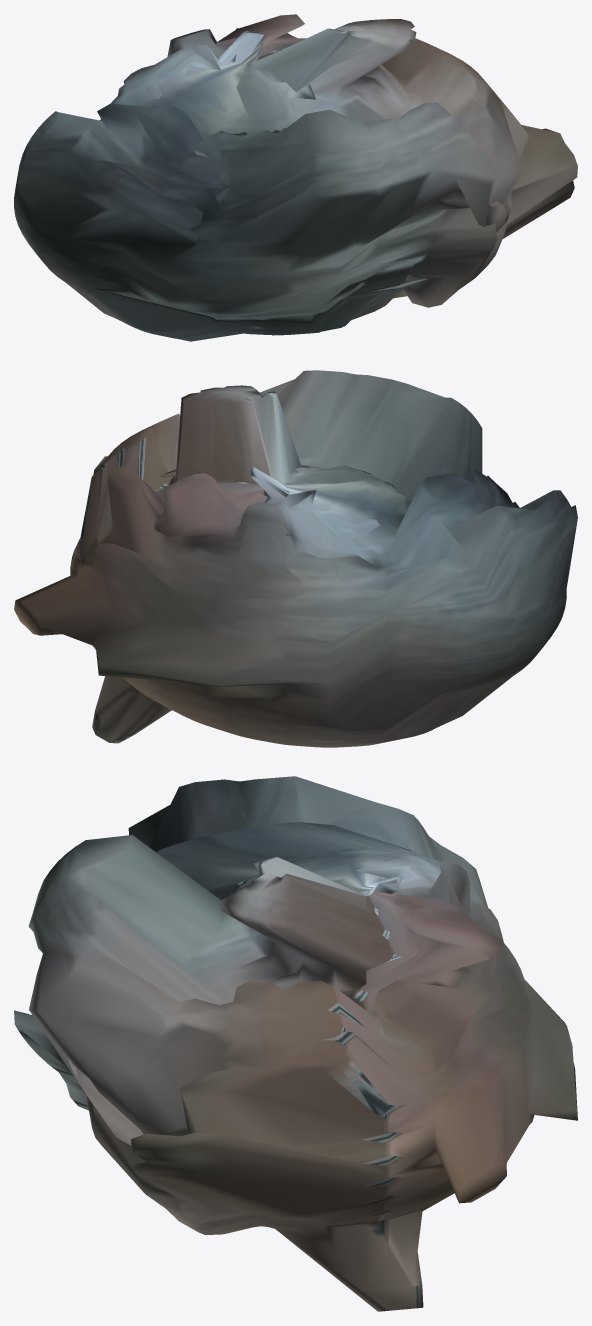
Rendered from alu2.fbx.
3 renders of one model, top to bottom at view 1: azimuth 30°, elevation 25°; view 2: azimuth 150°, elevation 25°; view 3: azimuth 270°, elevation 25°, orthographic. The views are drawn at different scales.
Visible parts, largest first — view 1: pSphere1; view 2: pSphere1; view 3: pSphere1.
Part boxes in pixels (x1=…): pSphere1: x1=14, y1=14, x2=577, y2=341; pSphere1: x1=14, y1=370, x2=577, y2=747; pSphere1: x1=14, y1=776, x2=577, y2=1311.
Bounding box in the file's own units: 7.93 × 5.07 × 6.6.
Materials: 1 (1 with a texture image).
